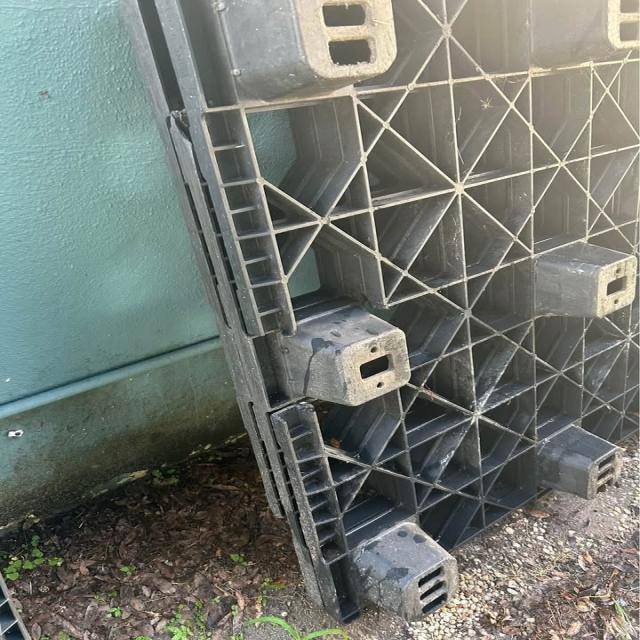non-igps: (96, 0, 640, 629)
